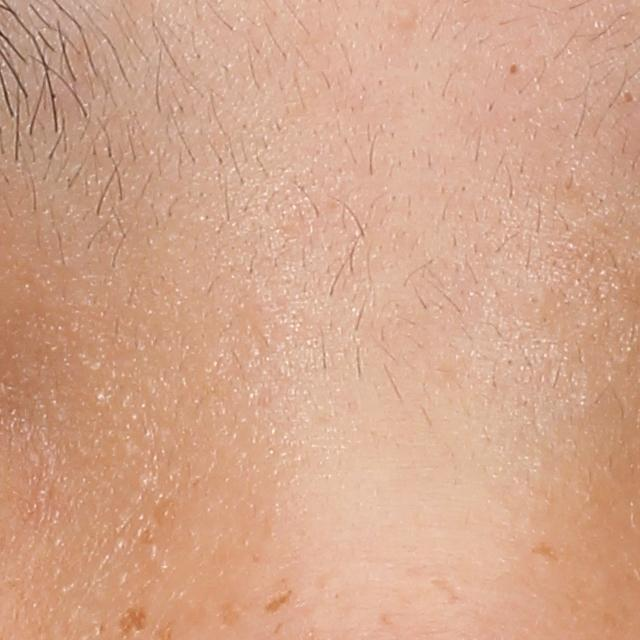comedo: (523, 286, 552, 317), (394, 2, 418, 29), (614, 86, 640, 109), (505, 58, 526, 82)
melasma: (118, 602, 151, 640), (218, 594, 249, 632), (260, 588, 296, 616), (526, 541, 561, 564)
